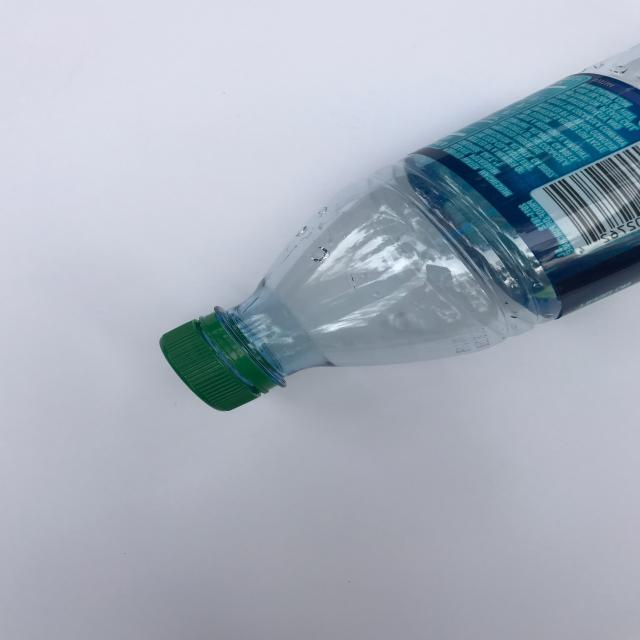plastic: (159, 39, 640, 412)
